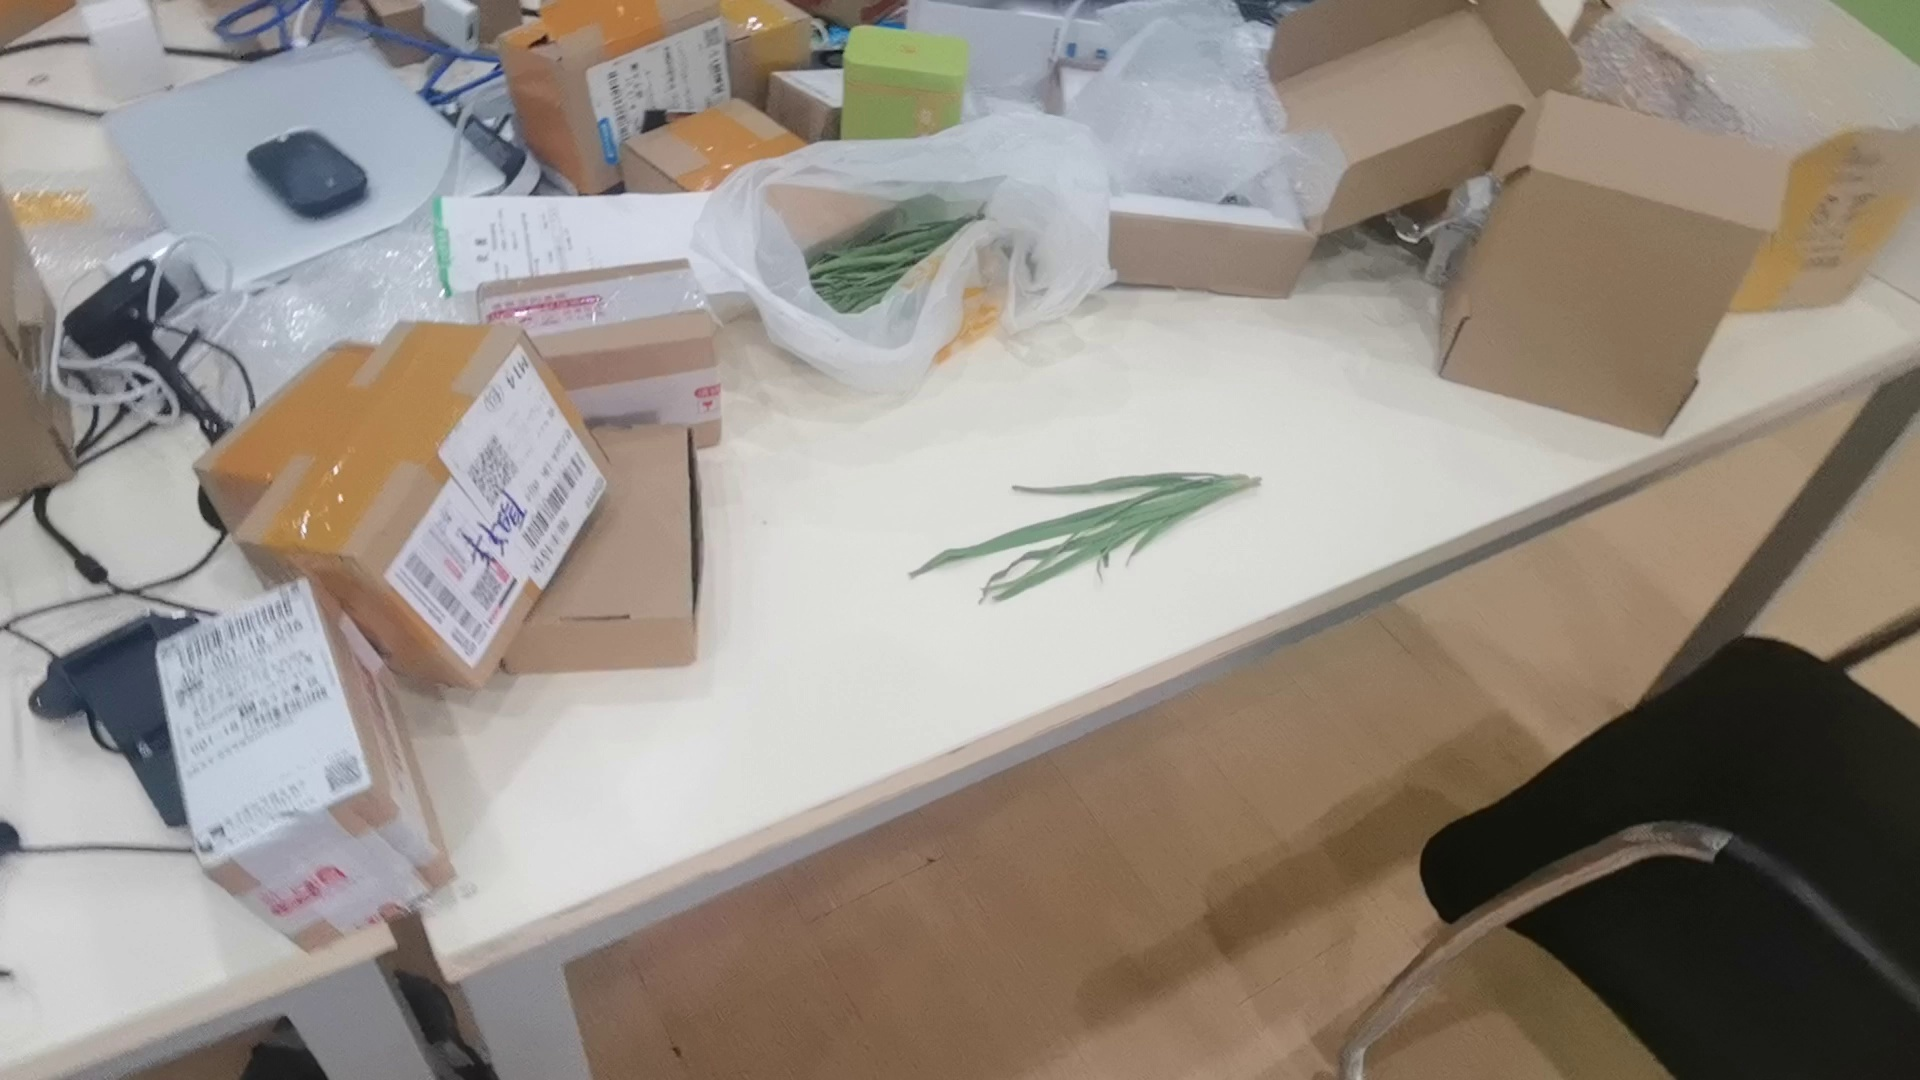chives: (894, 472, 1270, 613)
